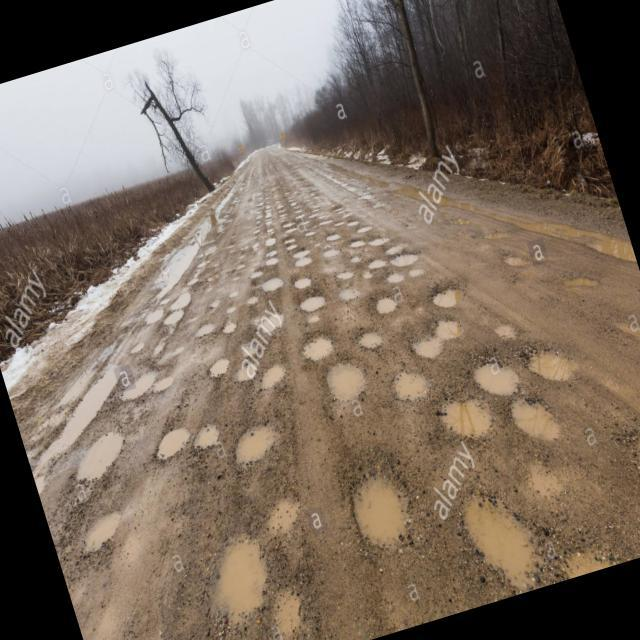Pothole: (382, 310, 602, 486), (442, 462, 558, 602), (143, 388, 288, 498), (188, 515, 315, 640), (339, 270, 477, 378), (332, 448, 425, 564), (268, 180, 332, 323), (54, 411, 146, 502), (294, 316, 374, 418), (250, 474, 318, 550), (617, 409, 640, 525)
